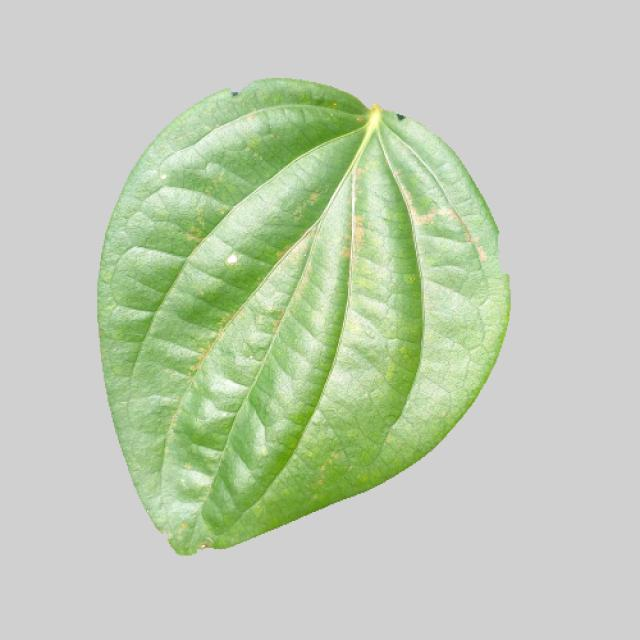healthy: (92, 71, 525, 564)
